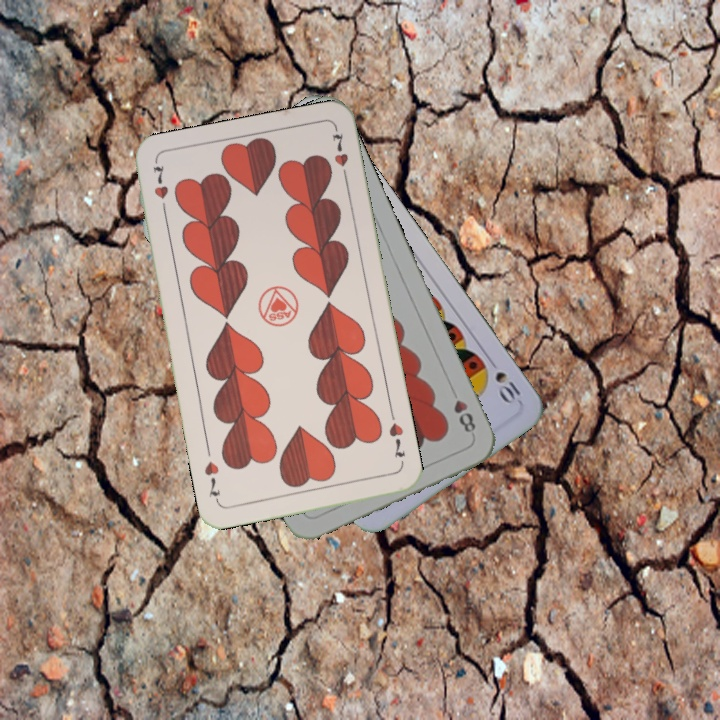H7: (148, 159, 171, 218), (385, 419, 408, 461)
H8: (449, 395, 479, 435)
S10: (484, 353, 527, 407)
